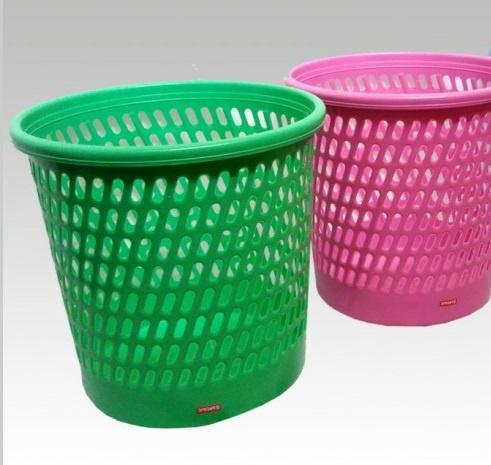Bote de Basura: (17, 76, 333, 427)
